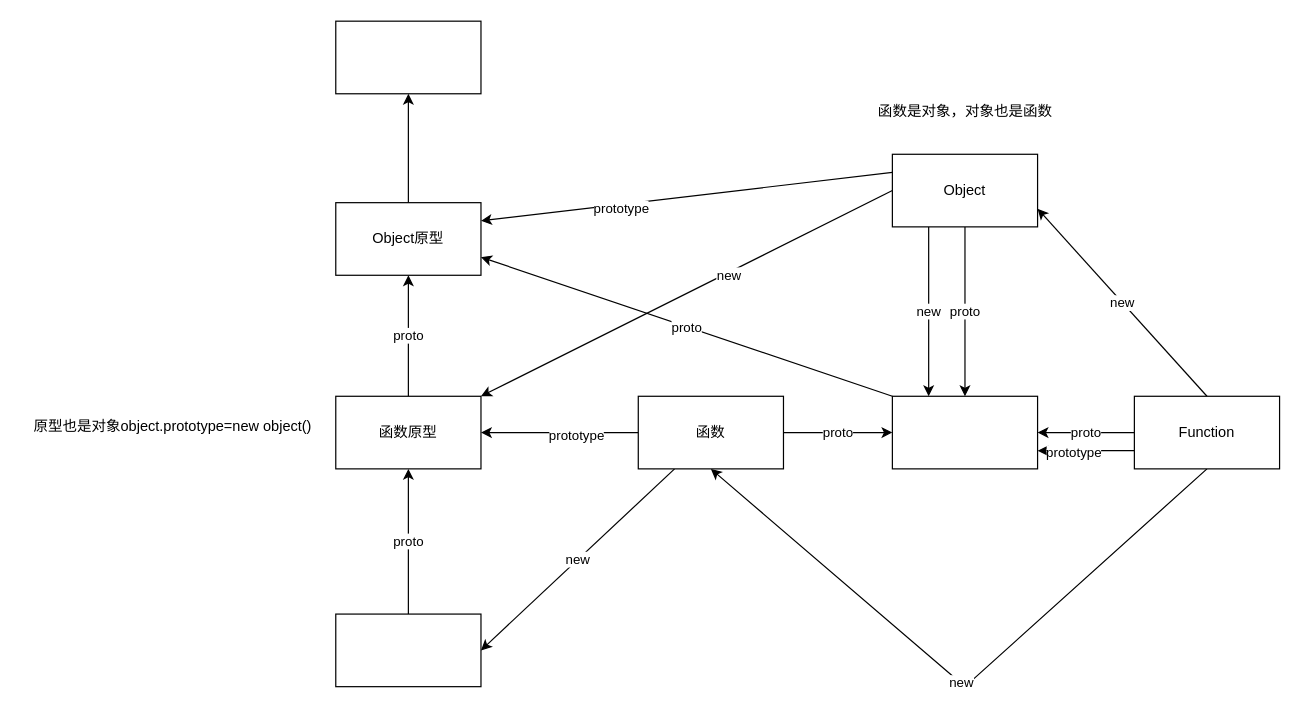
Image size: 1301x718. Some labels were removed from this diagram. The shapes that lost their labels are listed below. From the top down, each one's centre as x and y in pixels, then its label:
point (408, 57): null
point (964, 432): Function原型
point (408, 650): 函数实例
